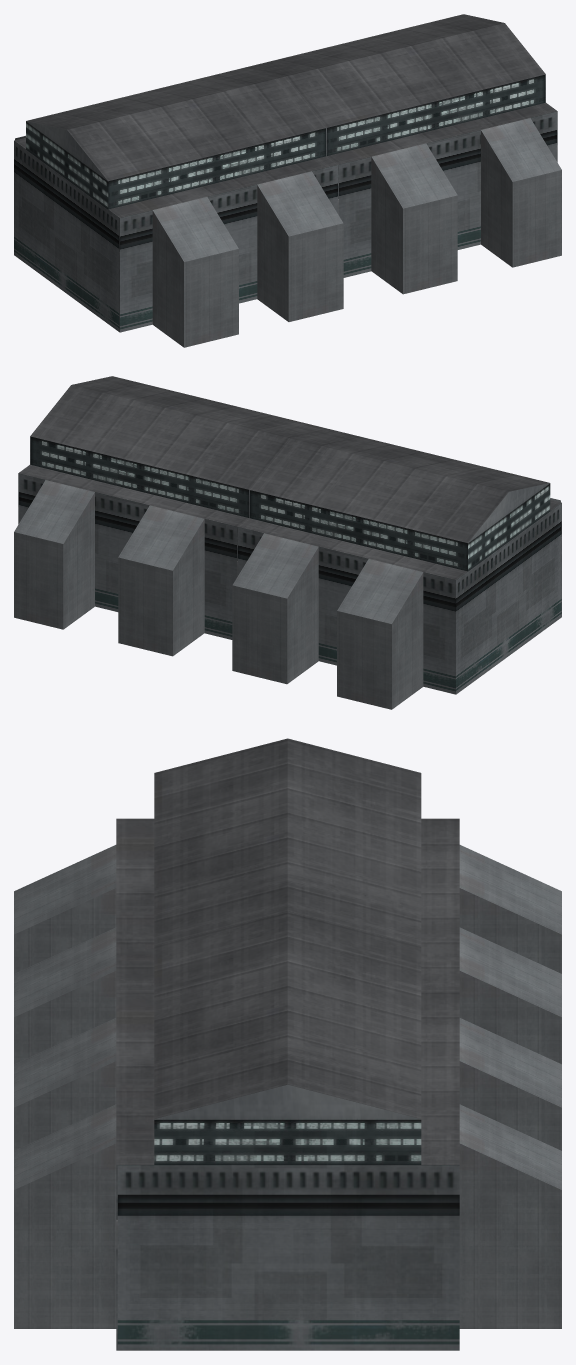
Rendered from Fact03.fbx.
The picture shows the model from 3 angles, top to bottom: view 1: azimuth 30°, elevation 25°; view 2: azimuth 150°, elevation 25°; view 3: azimuth 270°, elevation 25°; orthographic projection. The views are drawn at different scales.
Visible parts, largest first — view 1: Fact03; view 2: Fact03; view 3: Fact03.
Part boxes in pixels (x1,y1,x2,y2): Fact03: (14,14,561,347); Fact03: (14,376,561,709); Fact03: (14,738,561,1350).
Size of the model in its own units: 256 by 91.68 by 171.
